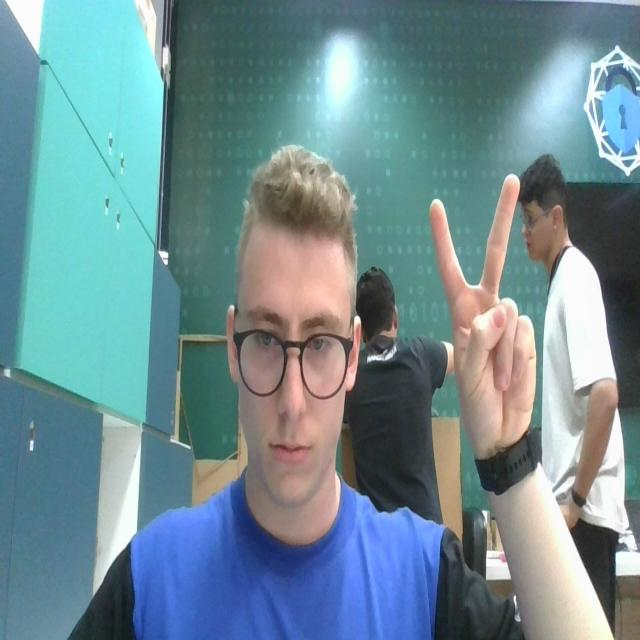V: (425, 173, 540, 439)
